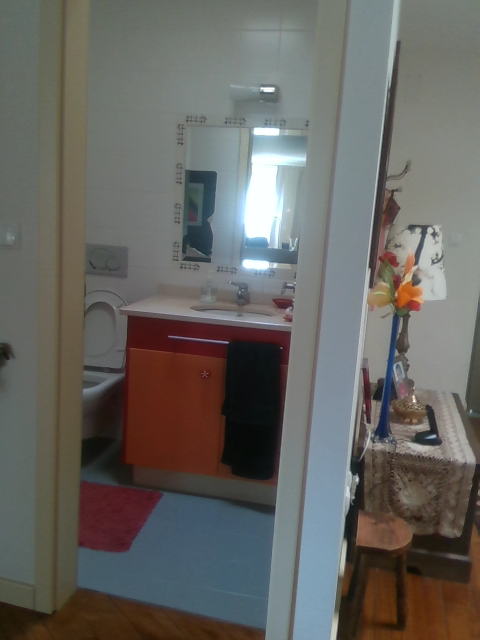open: (269, 0, 355, 639)
